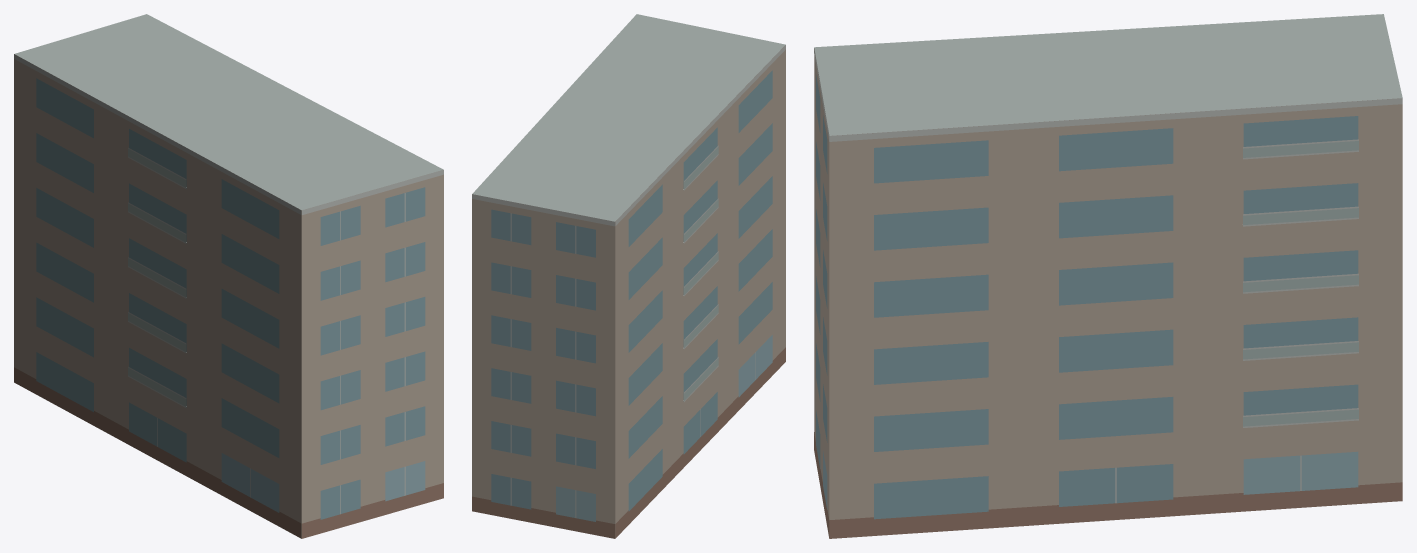
File: survey-upis-32915777.glb
3 views of the same model, side by side, from view 1: azimuth 30°, elevation 25°; view 2: azimuth 150°, elevation 25°; view 3: azimuth 270°, elevation 25° (orthographic). The views are drawn at different scales.
Visible parts, largest first — view 1: survey-upis-32915777.tmp; view 2: survey-upis-32915777.tmp; view 3: survey-upis-32915777.tmp.
Boxes of the visible parts, bbox=[...] form: survey-upis-32915777.tmp: bbox=[14, 14, 443, 538]; survey-upis-32915777.tmp: bbox=[472, 14, 785, 538]; survey-upis-32915777.tmp: bbox=[814, 14, 1402, 538].
Size of the model in its own units: 10.52 by 16.2 by 21.46.
